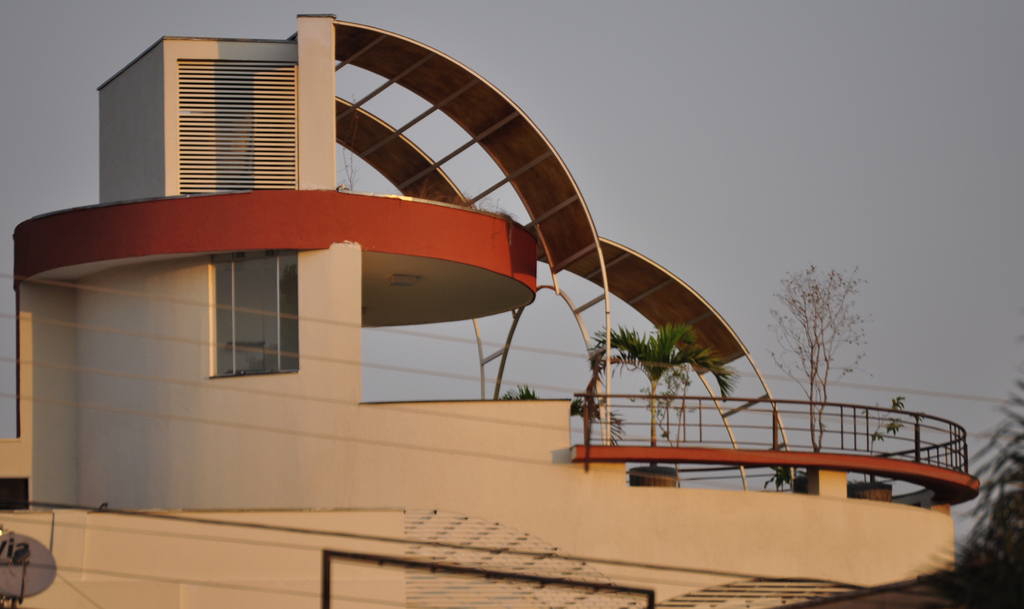Tree: (767, 267, 873, 451)
